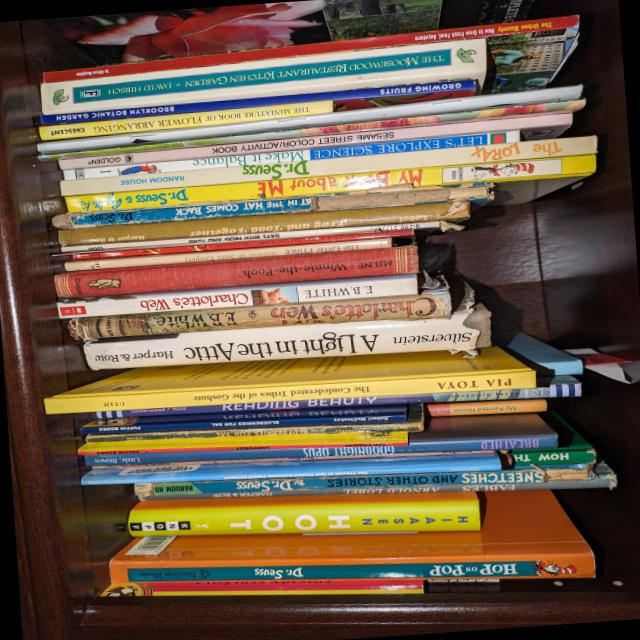book: (40, 15, 583, 124), (108, 489, 595, 585), (79, 283, 493, 384), (63, 153, 597, 230), (58, 134, 598, 199), (41, 345, 535, 415), (37, 38, 487, 114), (56, 112, 573, 173), (96, 373, 581, 430), (82, 411, 558, 467), (63, 129, 520, 182), (50, 79, 477, 131), (66, 288, 450, 344), (51, 183, 492, 230), (55, 199, 470, 248), (52, 246, 417, 299), (140, 462, 616, 502), (84, 403, 425, 454), (55, 272, 417, 320), (127, 490, 484, 538), (79, 451, 499, 486), (151, 463, 590, 496), (60, 219, 439, 254), (38, 98, 333, 142), (63, 237, 390, 272), (70, 228, 413, 261), (79, 403, 407, 435), (77, 430, 407, 456), (120, 448, 492, 468), (425, 397, 545, 417), (92, 464, 119, 469)
